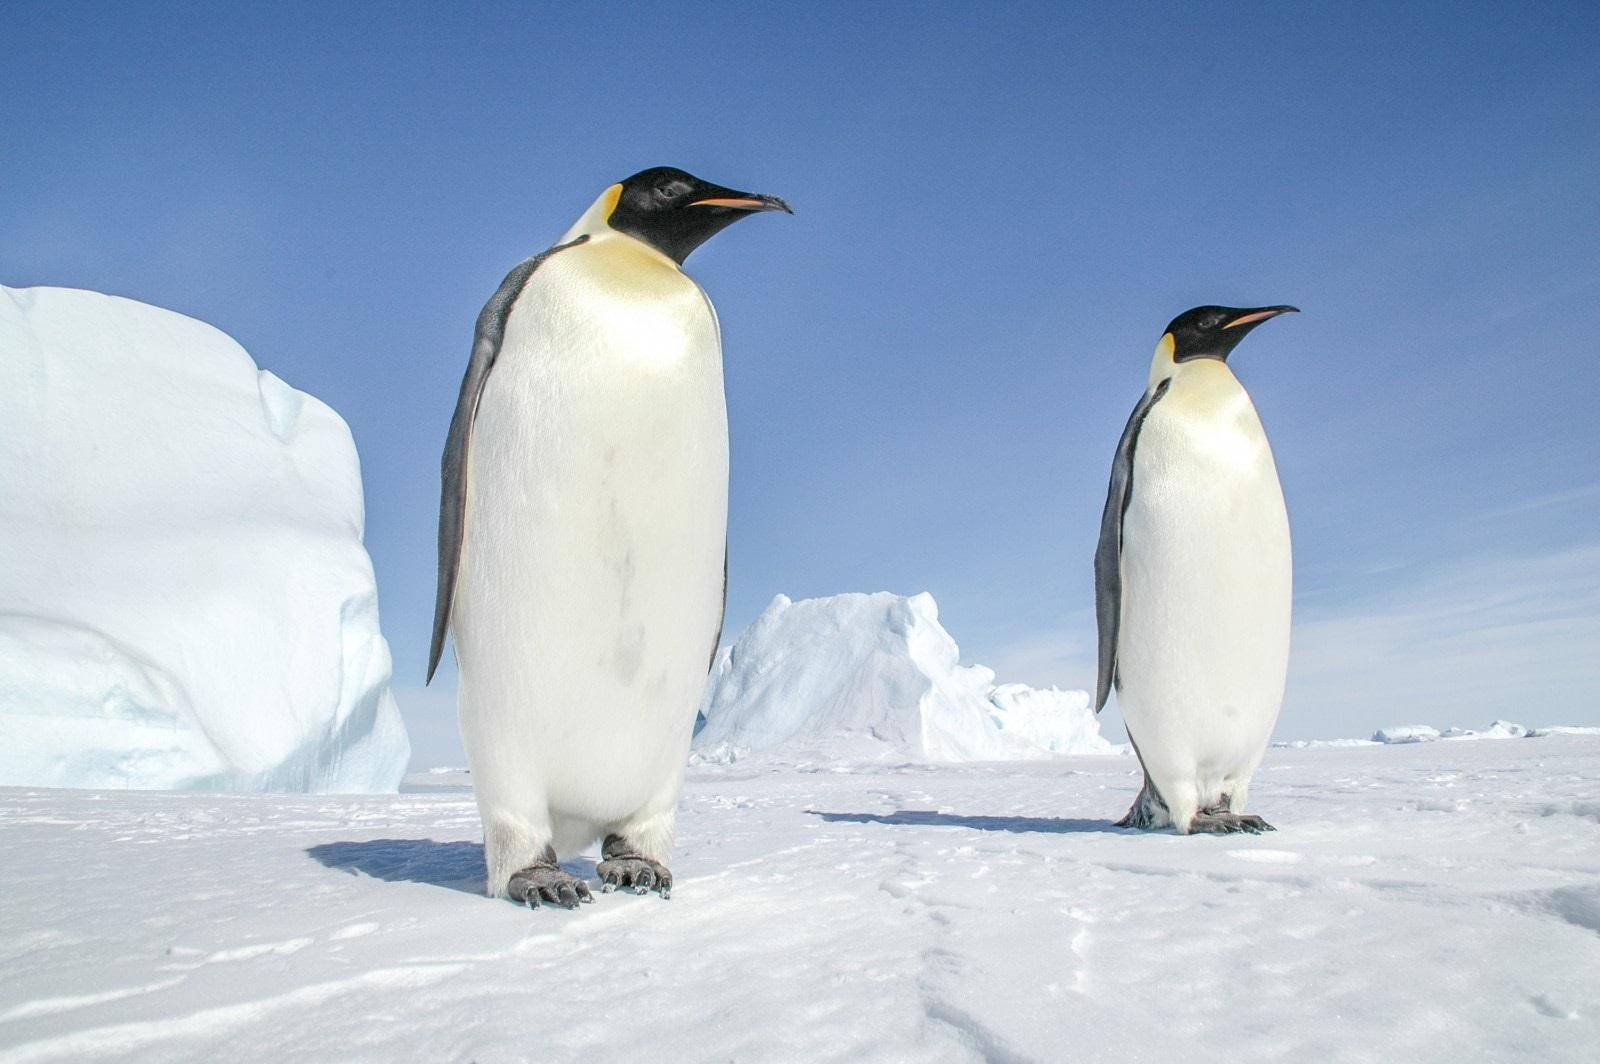emporer: (376, 126, 813, 993), (1050, 278, 1333, 895)
